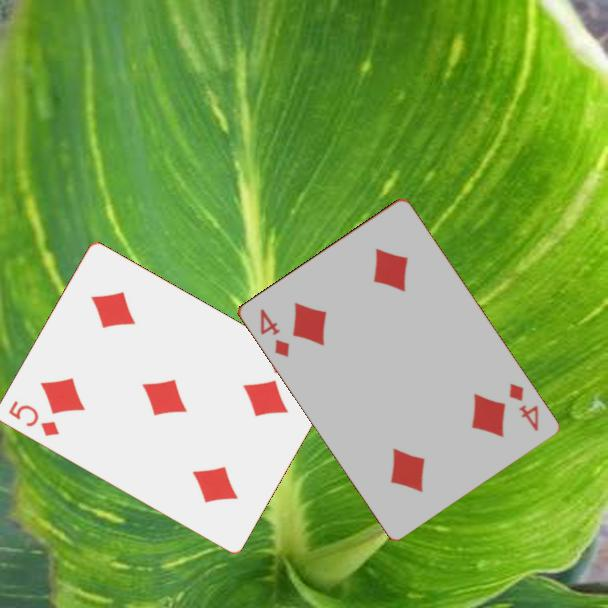d04: (256, 305, 292, 360), (505, 379, 541, 434)
d05: (5, 397, 62, 439)
